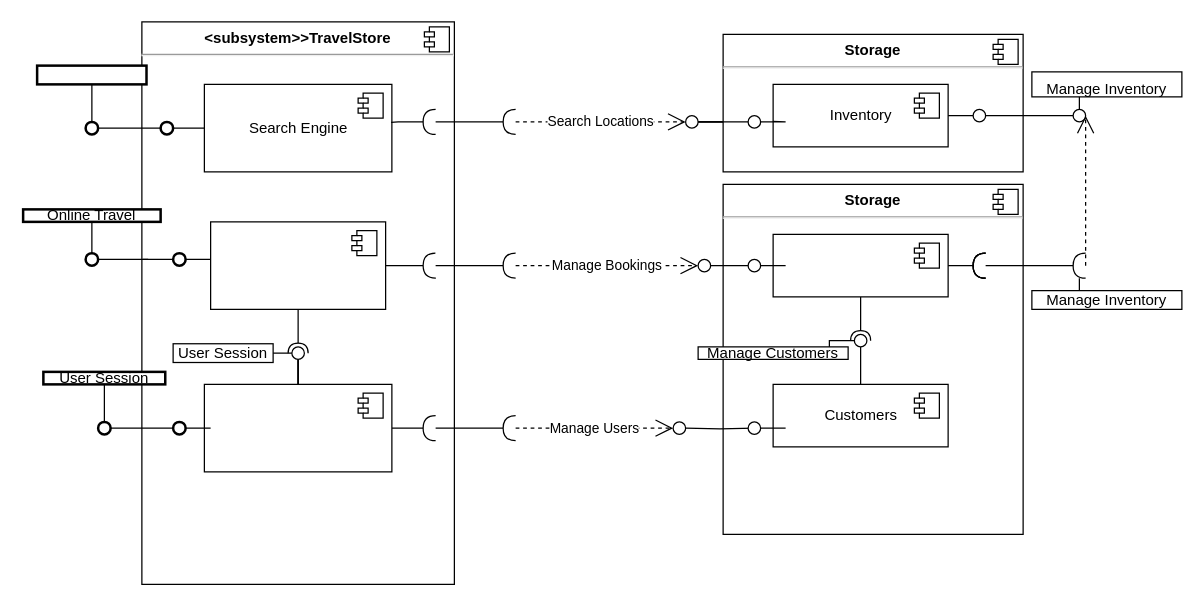
Image size: 1204x606. Some labels were removed from this diagram. Each missing label, with the centre of its shape:
Authentification: (297,427)
Booking List: (297,265)
Orders: (860,265)
Travel Search: (91,74)
